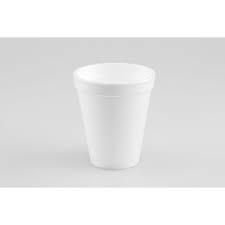Plastic cup: (69, 56, 161, 173)
